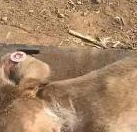text: (1, 43, 31, 72)
